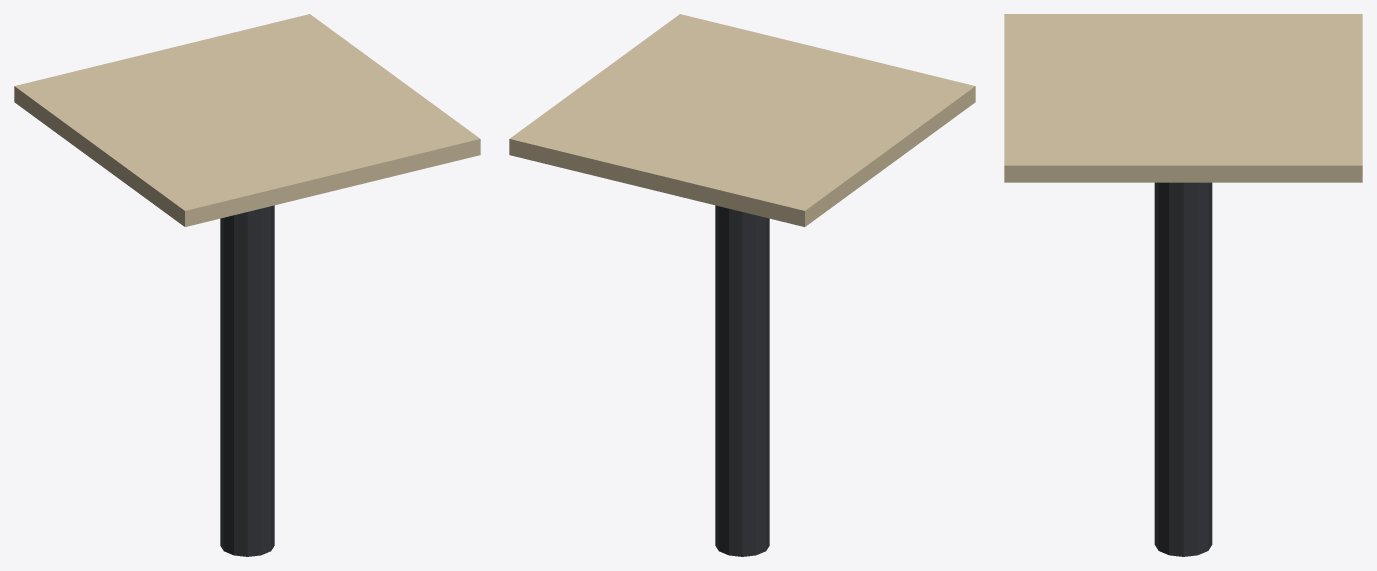
File: table_hightop_30.glb
The picture shows the model from 3 angles, left to right: view 1: azimuth 30°, elevation 25°; view 2: azimuth 150°, elevation 25°; view 3: azimuth 270°, elevation 25°; orthographic projection. The views are drawn at different scales.
Bounding box in the file's own units: 0.762 × 1.07 × 0.762.
